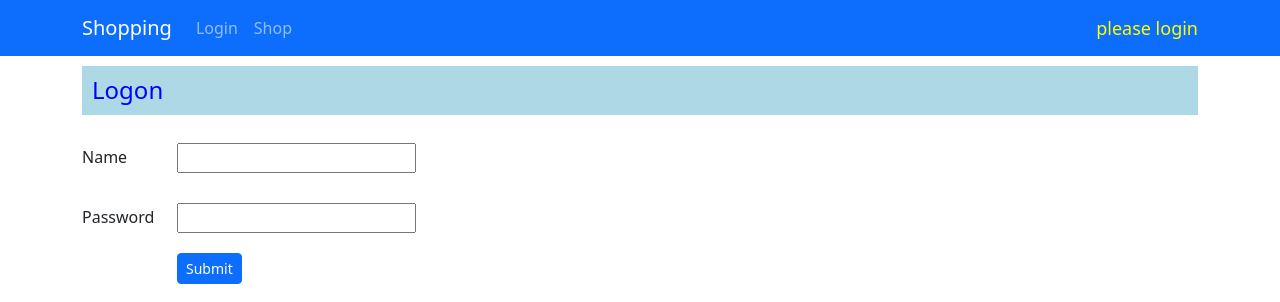
Scenario: posts user data
Type "hello" into the field with test id "username" at (296, 158), box [177,143,416,173]
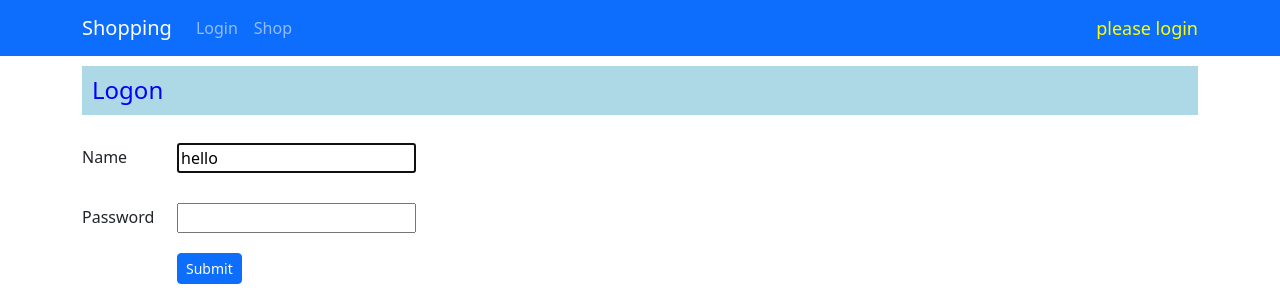
Type "world" into the password field with test id "password" at (296, 218), box [177,203,416,233]
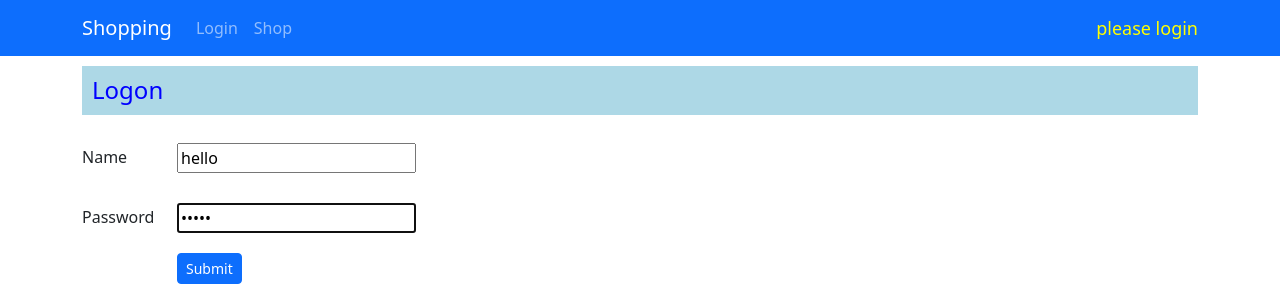
Click the button "Submit" at (209, 268), box [177,253,242,284]
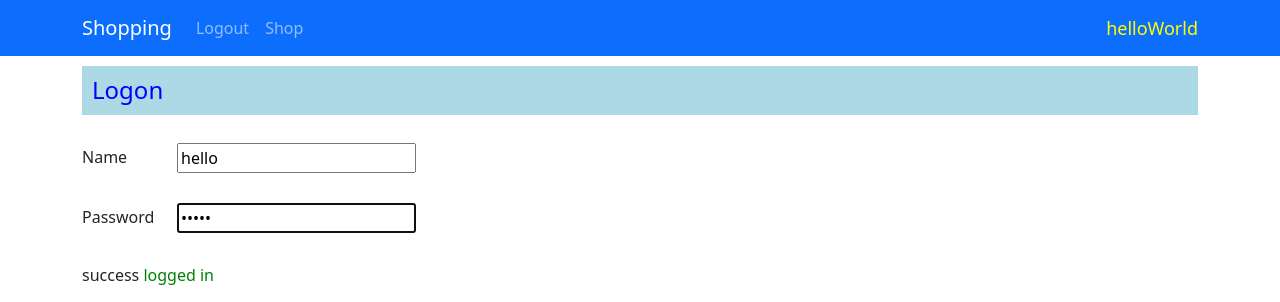
Expected: the text "logged in" is shown, [143,264,214,286]
